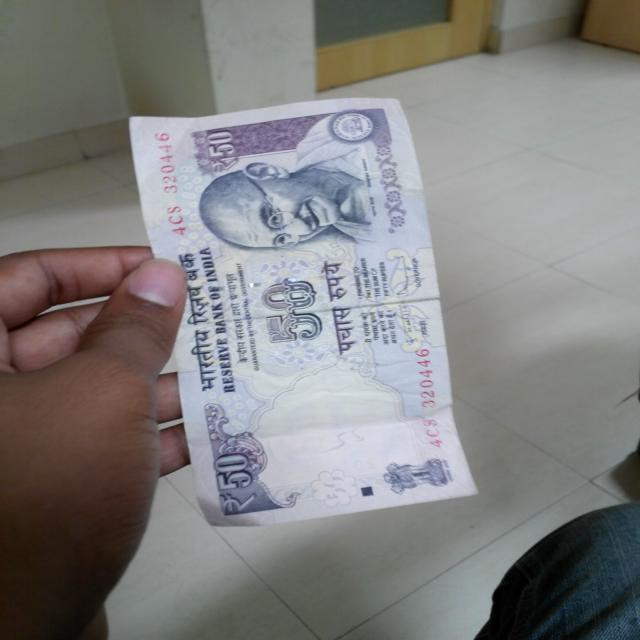50rs: (124, 98, 492, 522)
